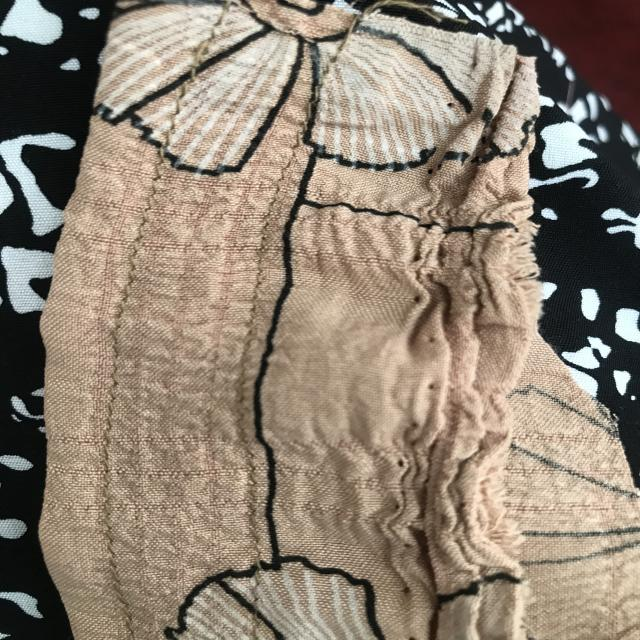good: (84, 533, 141, 608), (116, 192, 156, 298)
